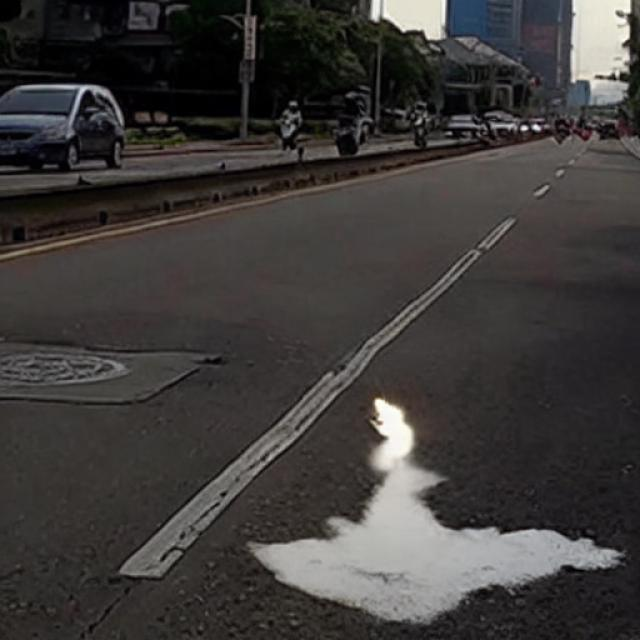puddle: (256, 398, 625, 627)
